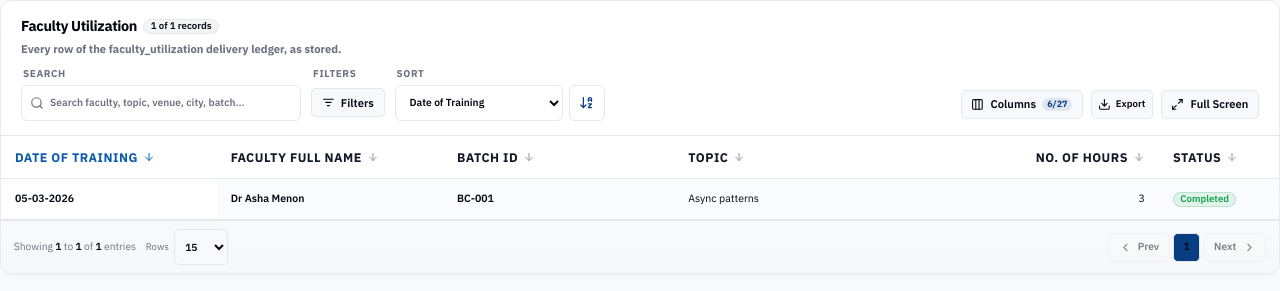
Test case: FacultyUtilizationView column visibility › renders every declared column and hides the raw ids and audit trail by default
This screenshot has width=1280, height=291.
Click the button "Columns 6/27": click(1022, 104) [961,90,1083,119]
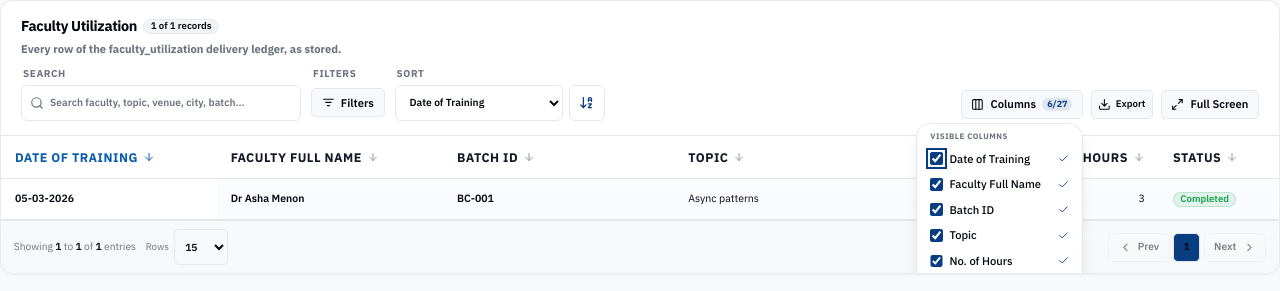
Expected: the checkbox labelled "Faculty Full Name" is checked, [930,178,943,191]
Expected: the checkbox labelled "Topic" is checked, [930,229,943,242]
